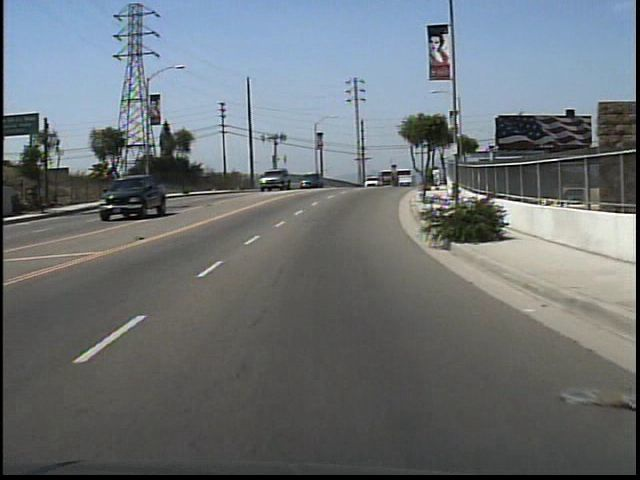person: (431, 164, 445, 192)
